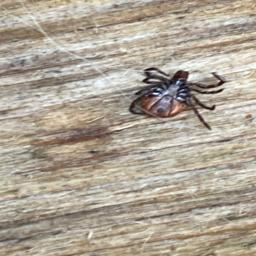Ixodes scapularis: (129, 66, 225, 130)
